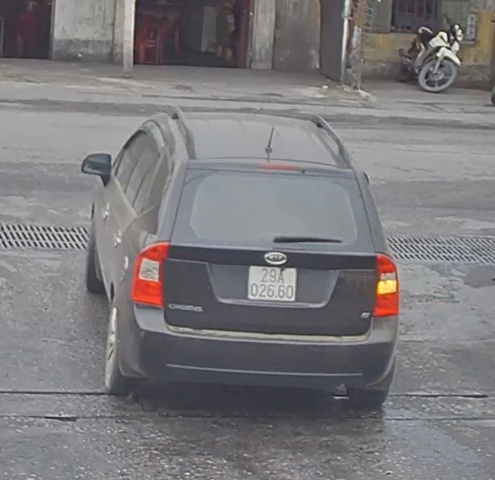vehicle plate: (242, 262, 302, 306)
